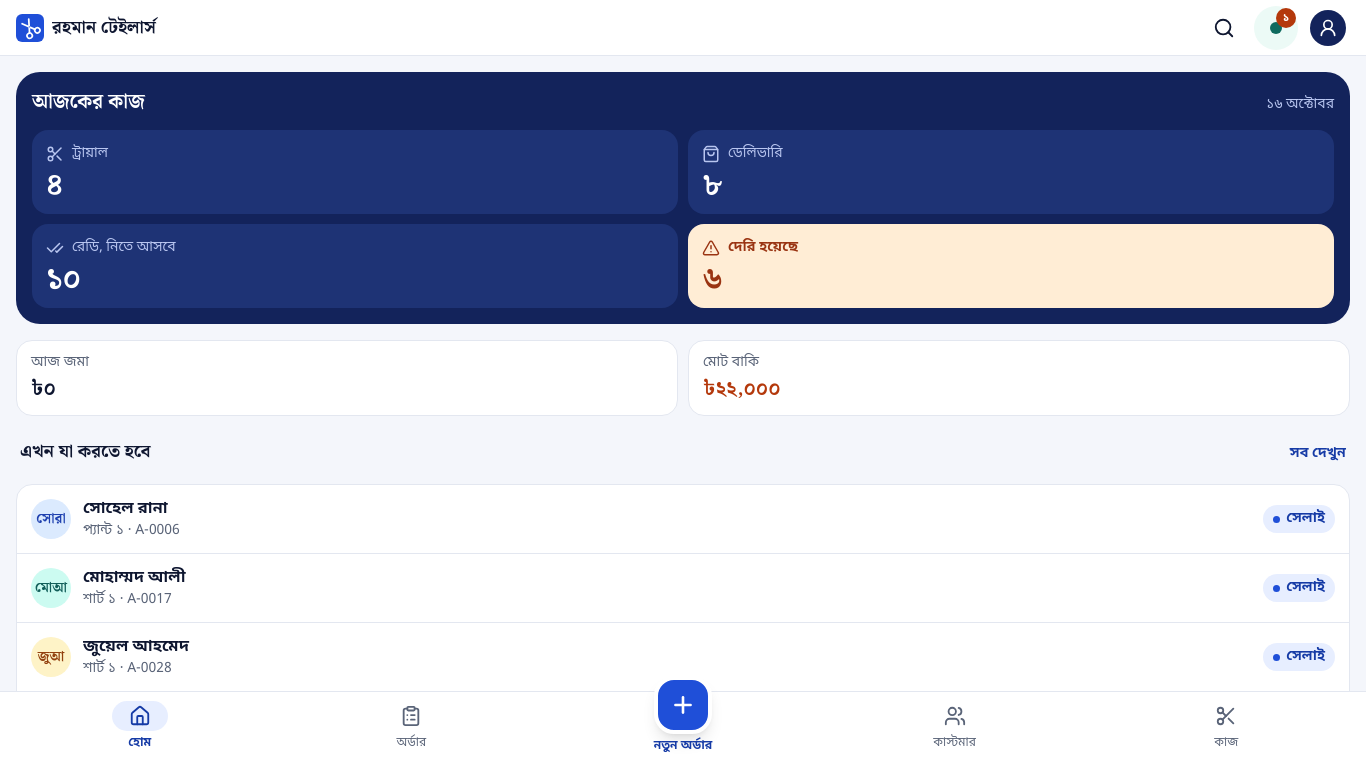
Phone header › closes the search with its back button or Escape, results first, and gives focus back
The width and height of the screenshot is (1366, 768).
Click the button named "অর্ডার বা কাস্টমার খুঁজুন" at (1224, 28), box [1202,6,1246,50]
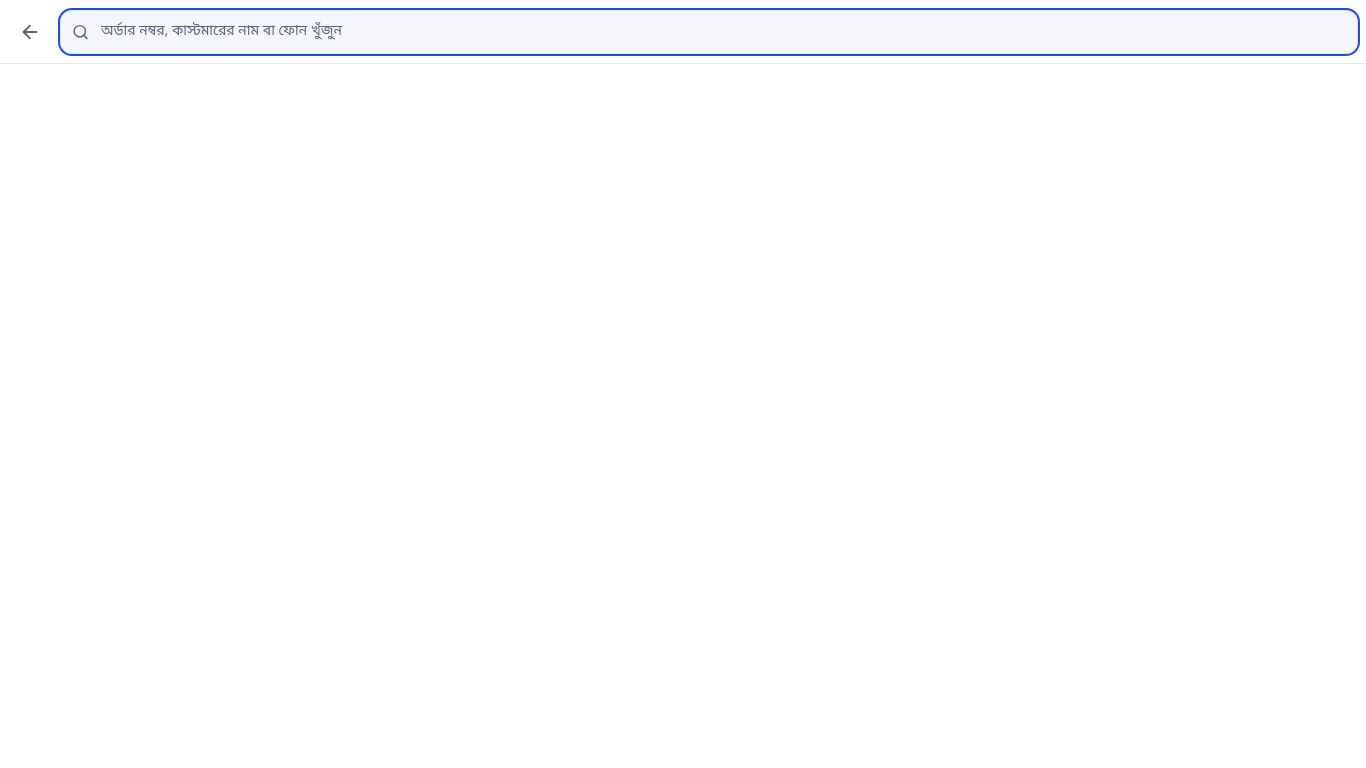
Click the button named "বন্ধ করুন" at (30, 32), box [8,10,52,54]
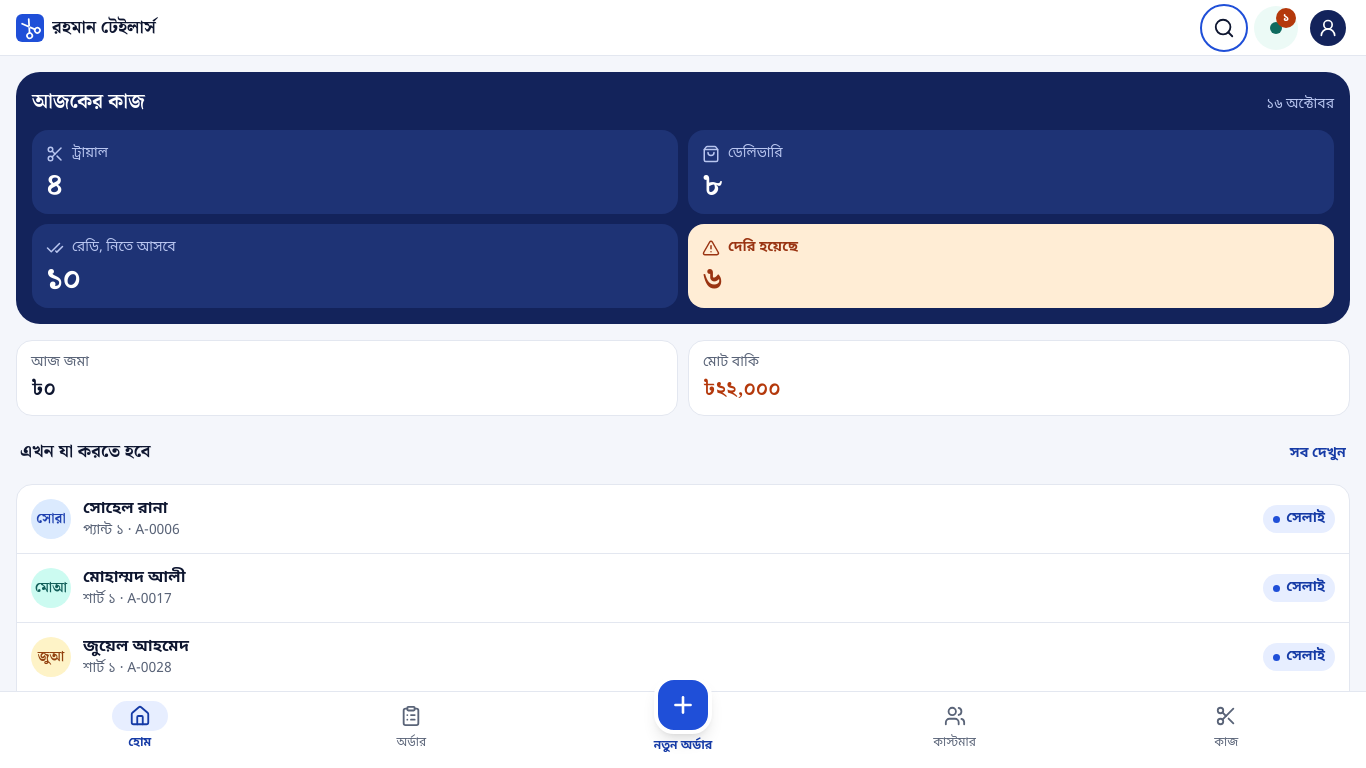
Expected: the dialog is gone
Click the button named "অর্ডার বা কাস্টমার খুঁজুন" at (1224, 28), box [1202,6,1246,50]
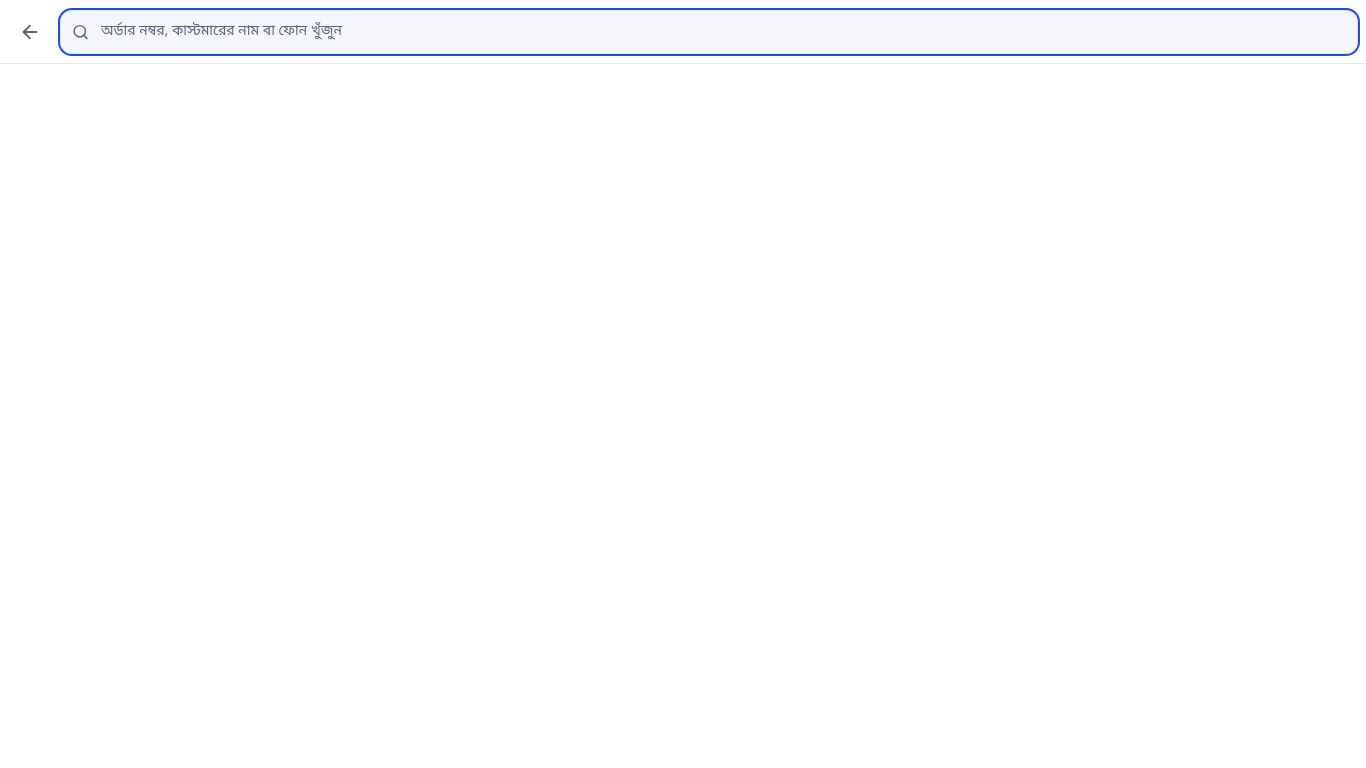
Type keys "রহ"
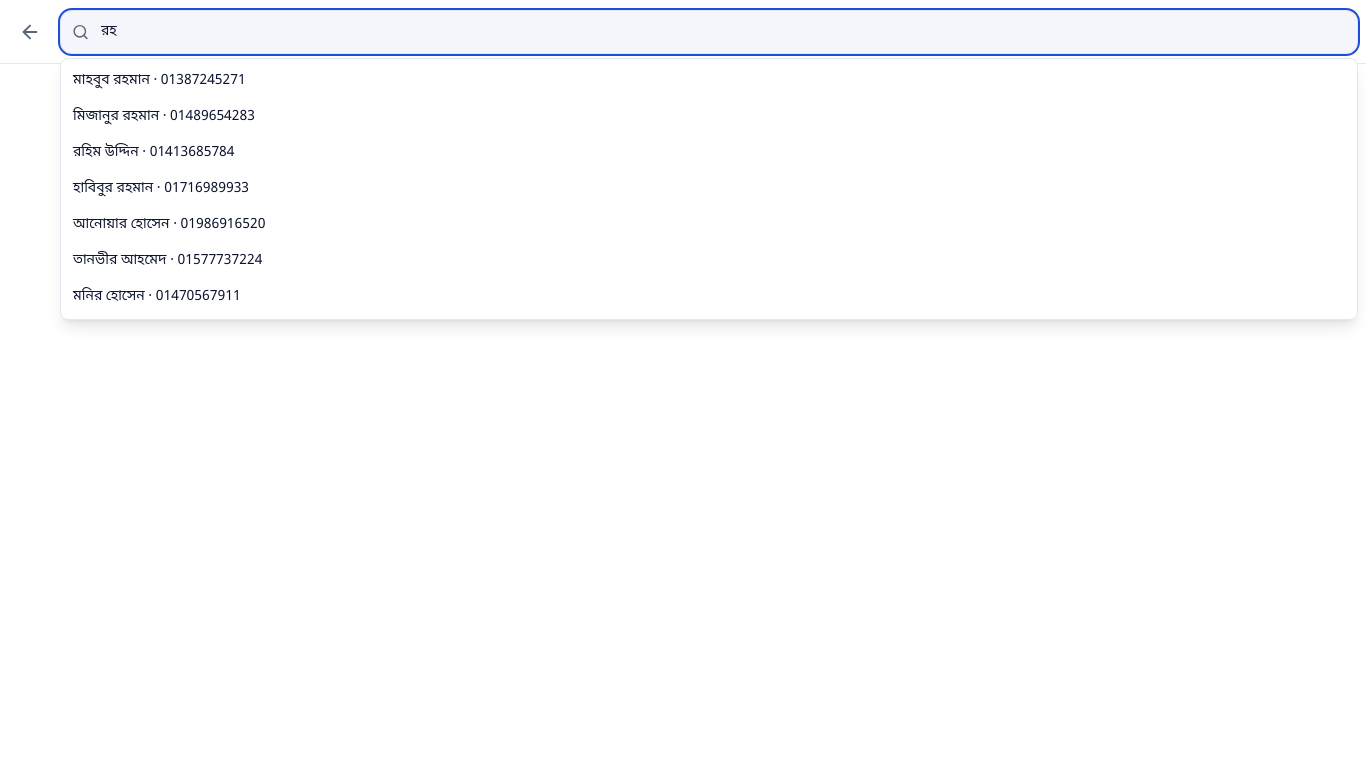
Expected: the list is shown, [60,58,1358,320]
Press Escape
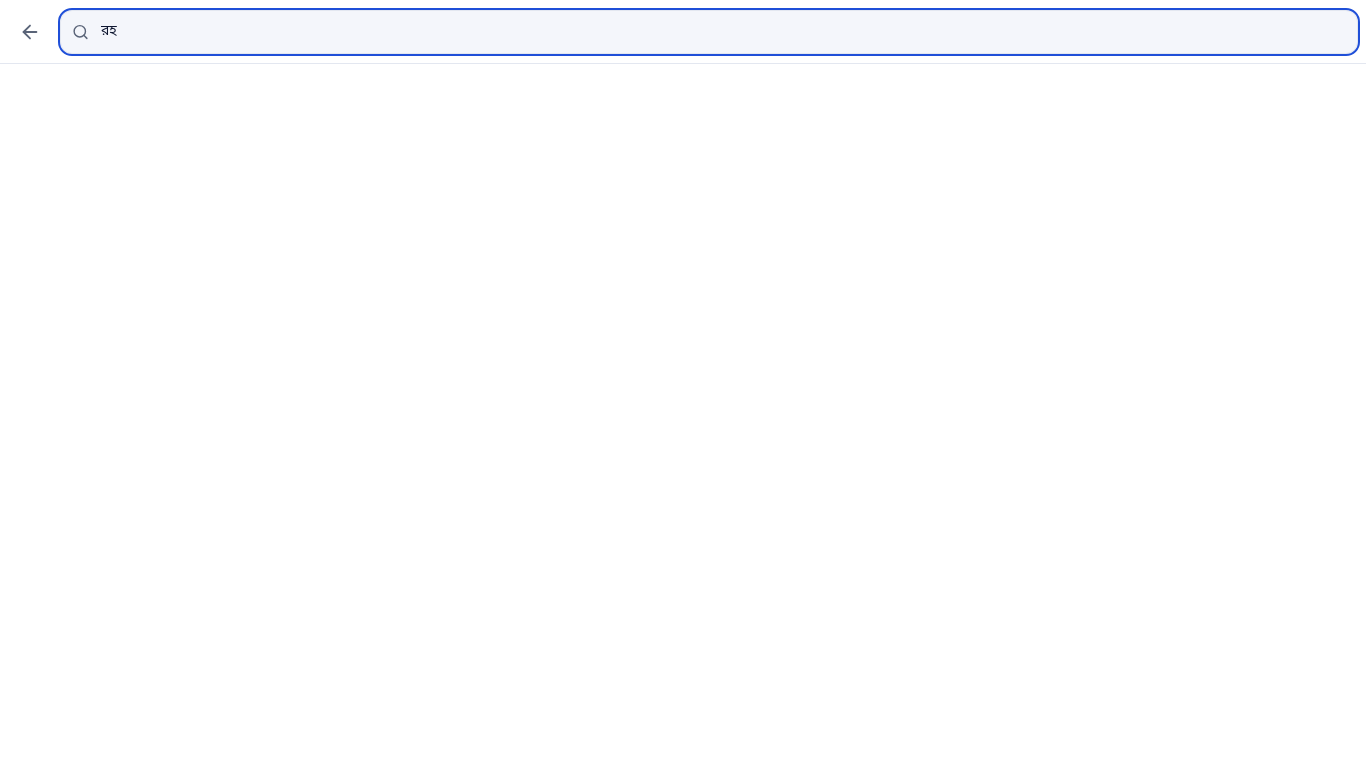
Press Escape
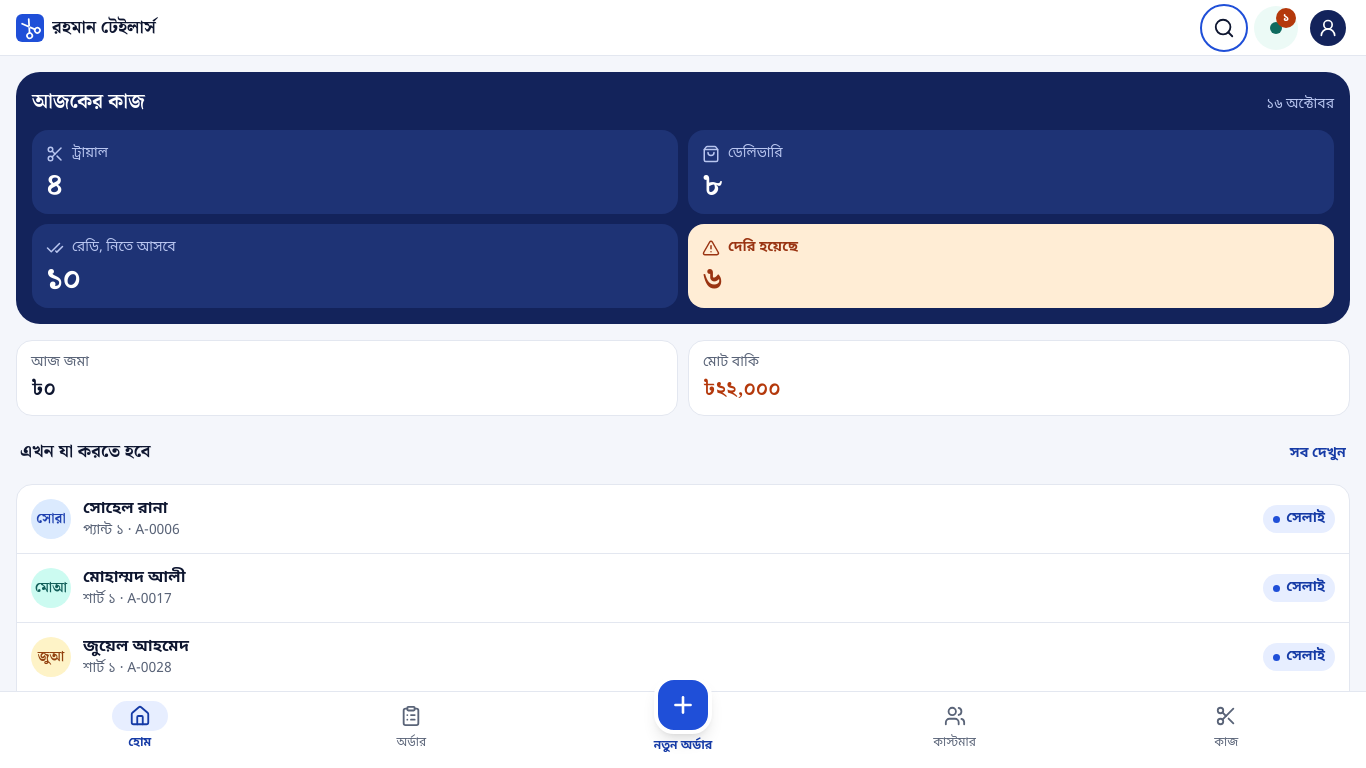
Expected: the dialog is gone
